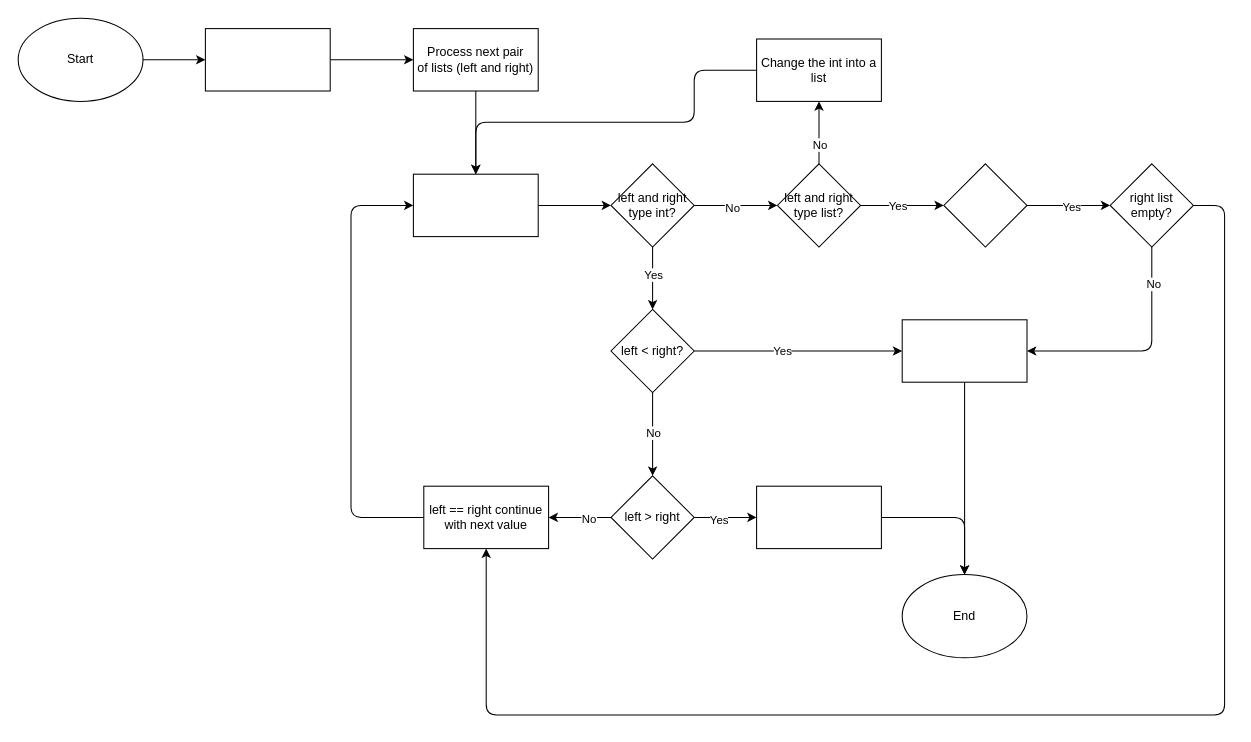
Image size: 1251x742. Some labels were removed from this diagram. The shapes that lost their labels are listed below. From the top down, each one's box as (x1, y1, x2, y2) in pixels, then its label:
(204, 28, 330, 91): Read input from file
(412, 173, 538, 237): Compare values in left and right
(943, 163, 1027, 247): left list empty?
(901, 319, 1027, 382): In order = True
(756, 485, 881, 549): In order = False
